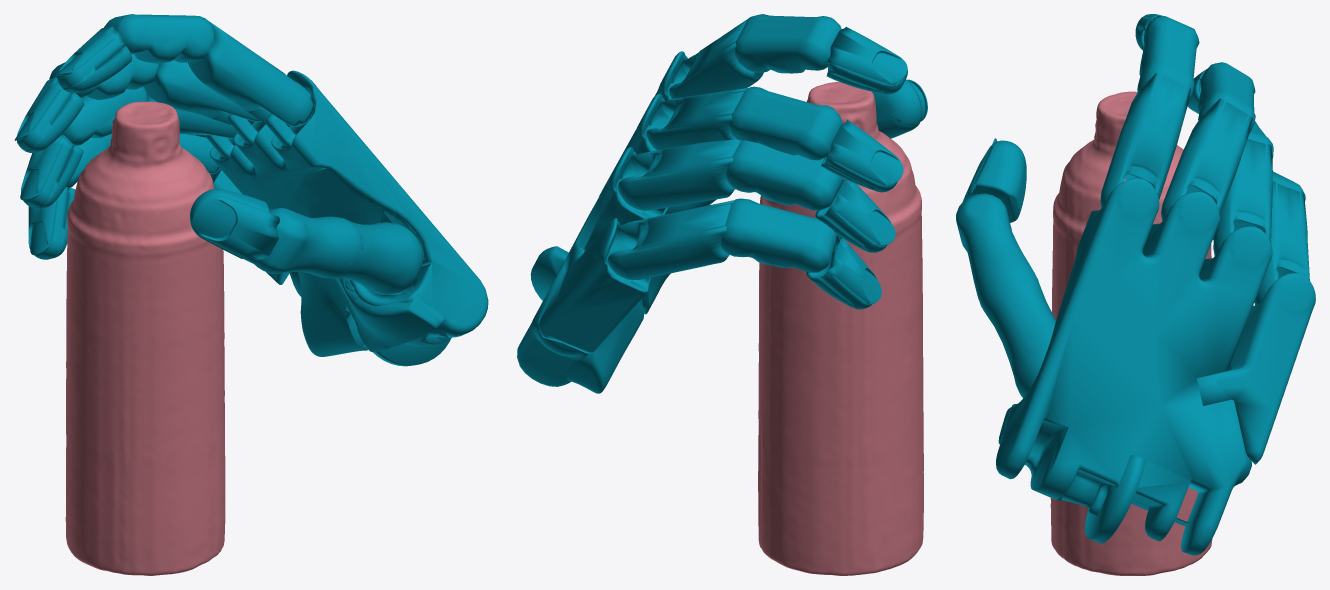
The picture shows the model from 3 angles, left to right: view 1: azimuth 30°, elevation 25°; view 2: azimuth 150°, elevation 25°; view 3: azimuth 270°, elevation 25°; orthographic projection. The views are drawn at different scales.
Parts seen in each view (by area): view 1: world; view 2: world; view 3: world.
Boxes of the visible parts, x1,y1,x2,y2 form: world: (14,14,488,575); world: (517,14,927,575); world: (956,14,1315,575).
Bounding box in the file's own units: 0.1615 × 0.2031 × 0.1251.
